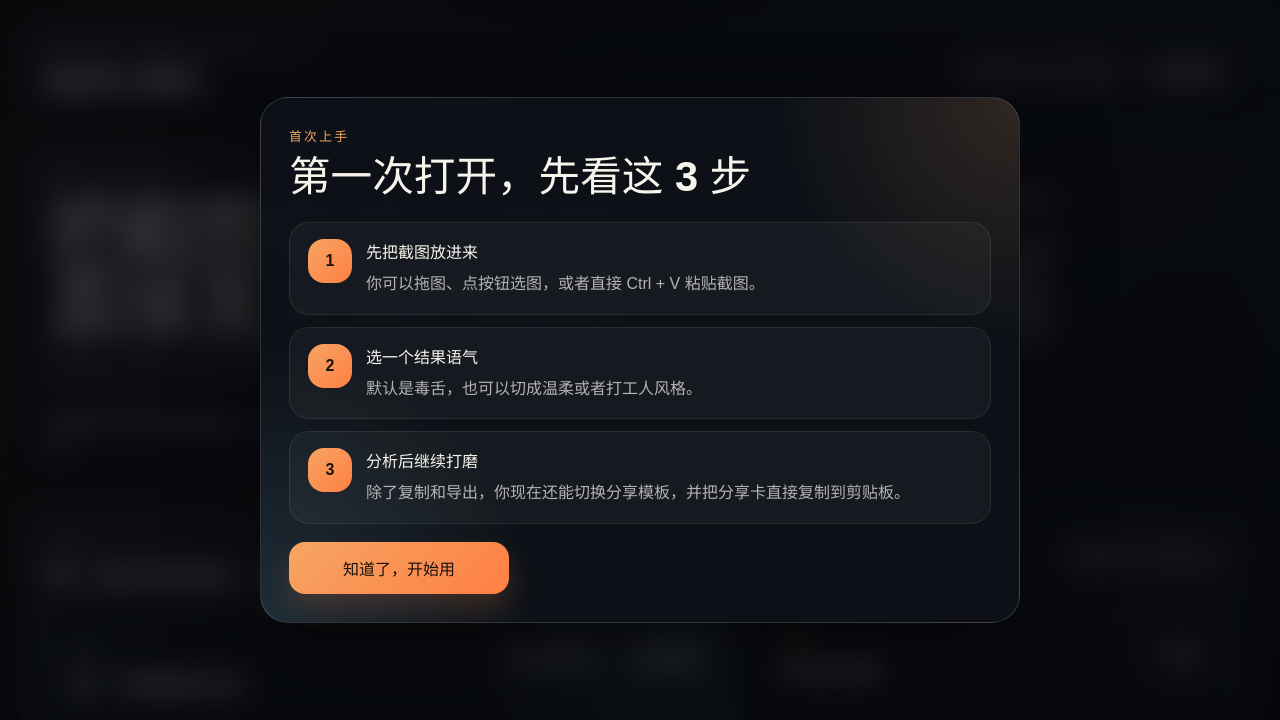
Test case: App › creates a new variant directly from history detail and links it to the source entry
Click the button "知道了，开始用" at (399, 568), box [289,542,509,594]
(page scrolled)
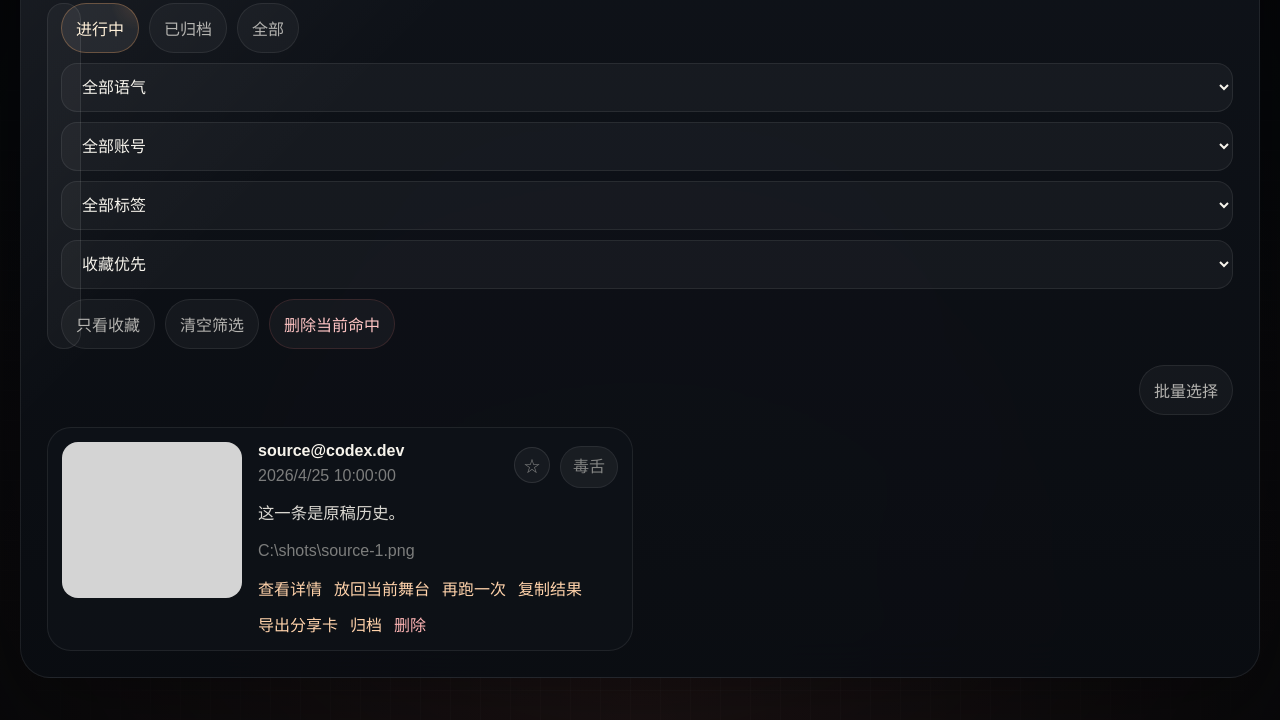
Expected: the heading "第一次打开" is gone
Click the button "查看详情" at (290, 588), box [258,576,322,600]
(page scrolled)
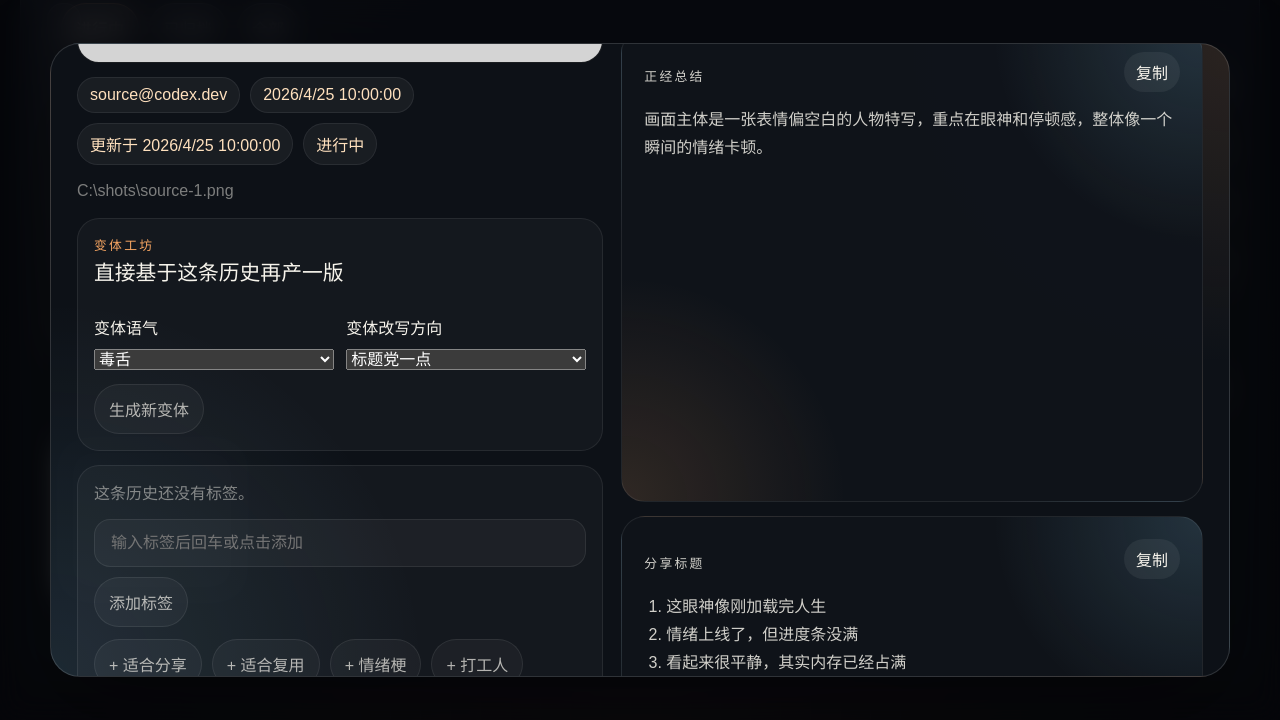
Select "温柔" in the dropdown labelled "变体语气" at (214, 360), box [94,349,334,370]
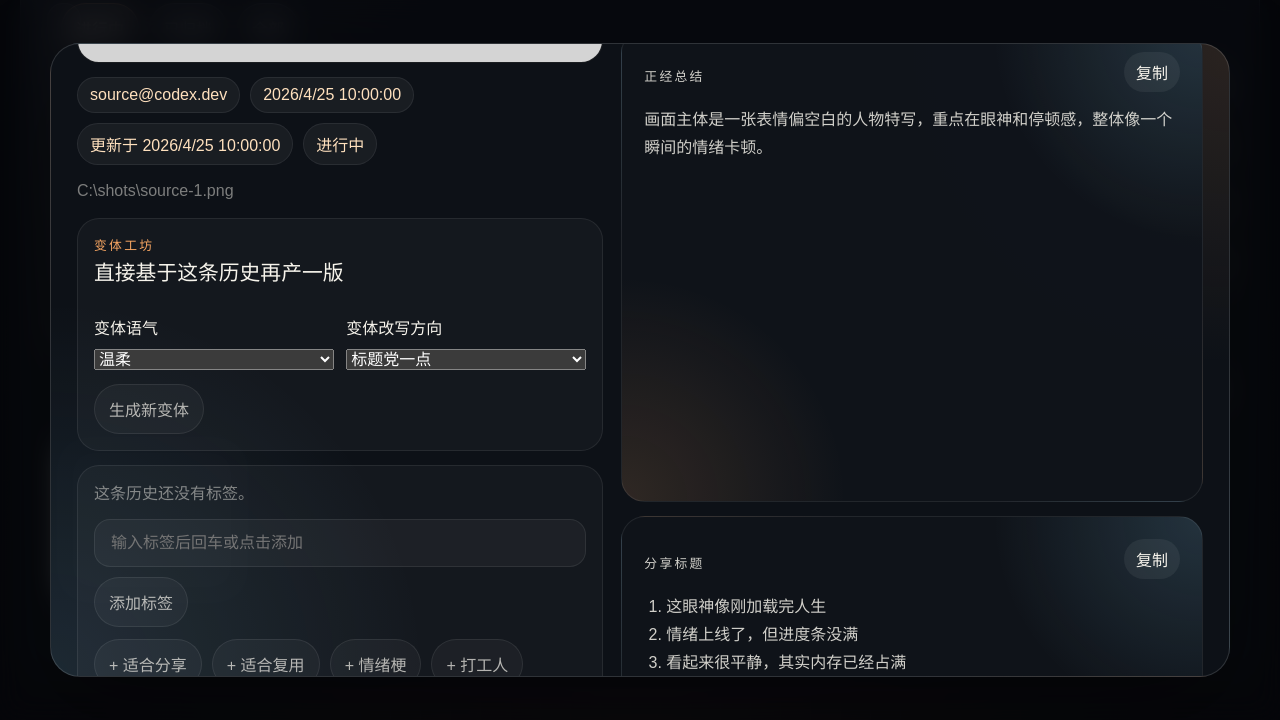
Select "标题党一点" in the dropdown labelled "变体改写方向" at (466, 360), box [346,349,586,370]
Click the button "生成新变体" at (149, 409), box [94,384,204,434]
(page scrolled)
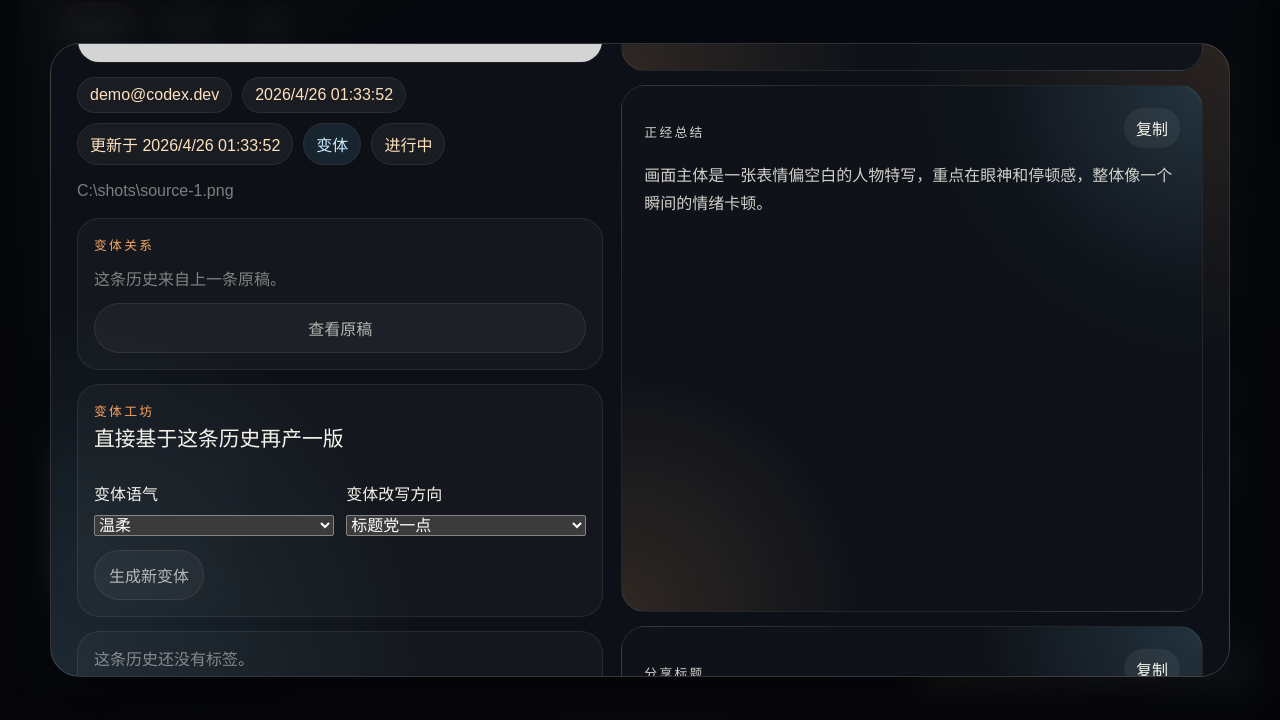
Expected: the text "变体" is shown, [303,123,361,165]
